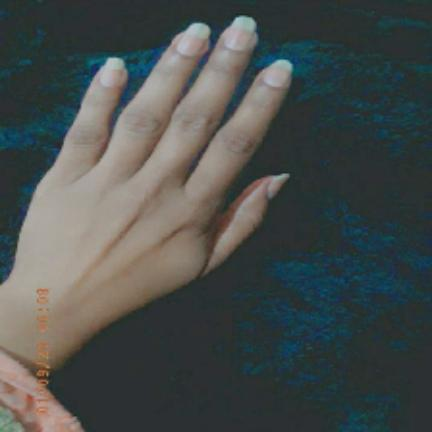Nail: (224, 16, 257, 51), (176, 23, 210, 56), (262, 59, 293, 87), (100, 57, 123, 86), (267, 173, 289, 200)
